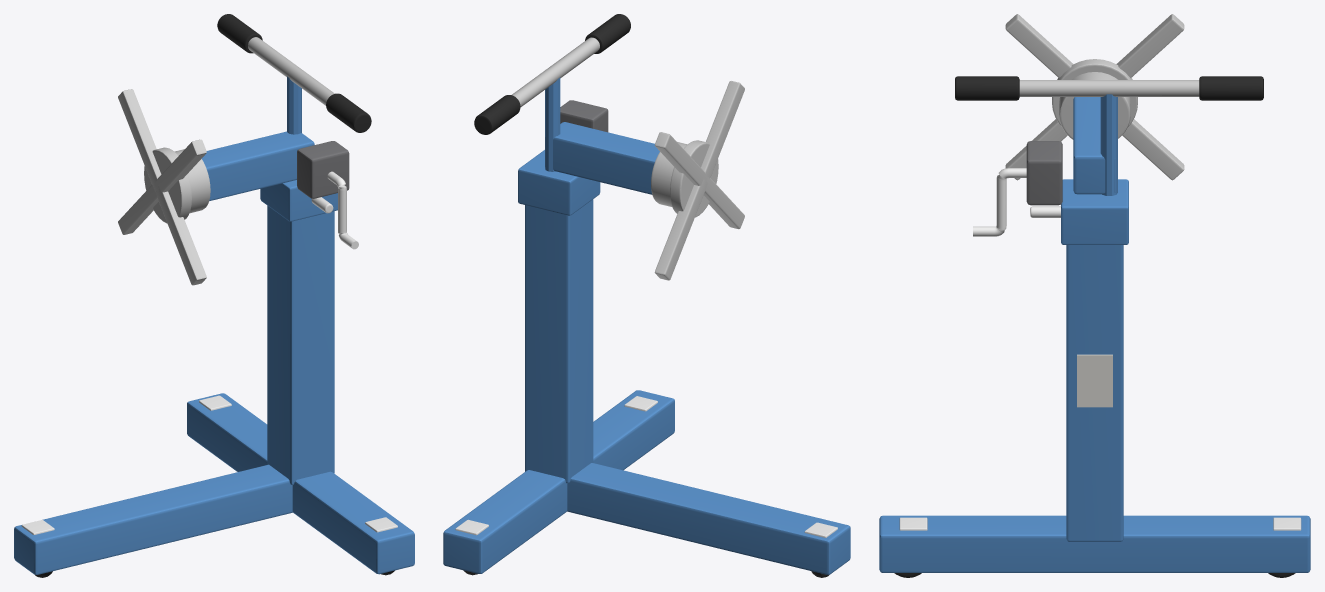
Rendered from engine_stand_folding.glb.
3 renders of one model, left to right at view 1: azimuth 30°, elevation 25°; view 2: azimuth 150°, elevation 25°; view 3: azimuth 270°, elevation 25°, orthographic. The views are drawn at different scales.
Parts seen in each view (by area): view 1: SM_engine_stand_folding; view 2: SM_engine_stand_folding; view 3: SM_engine_stand_folding.
Boxes of the visible parts, left/top/right/bottom form: SM_engine_stand_folding: left=14, top=14, right=414, bottom=577; SM_engine_stand_folding: left=443, top=14, right=850, bottom=577; SM_engine_stand_folding: left=879, top=14, right=1310, bottom=577.
Bounding box in the file's own units: 0.5475 × 0.767 × 0.6.
